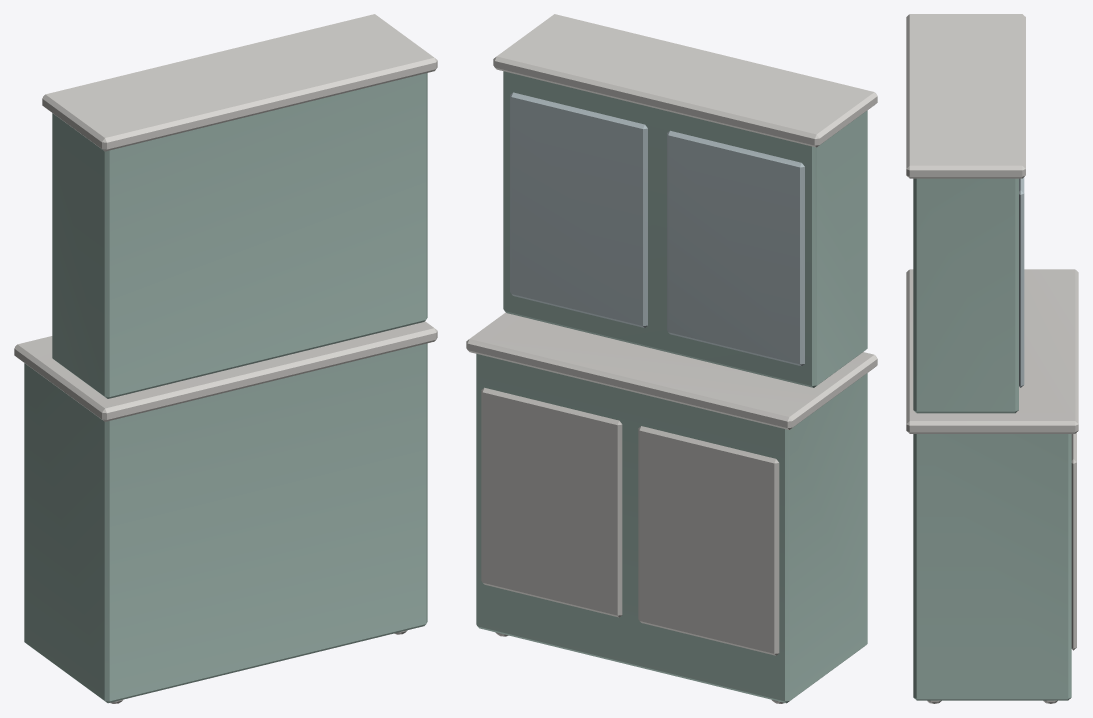
Rendered from furn_cupboard__mint.glb.
The picture shows the model from 3 angles, left to right: view 1: azimuth 30°, elevation 25°; view 2: azimuth 150°, elevation 25°; view 3: azimuth 270°, elevation 25°; orthographic projection. The views are drawn at different scales.
Bounding box in the file's own units: 1.04 × 1.71 × 0.49.
